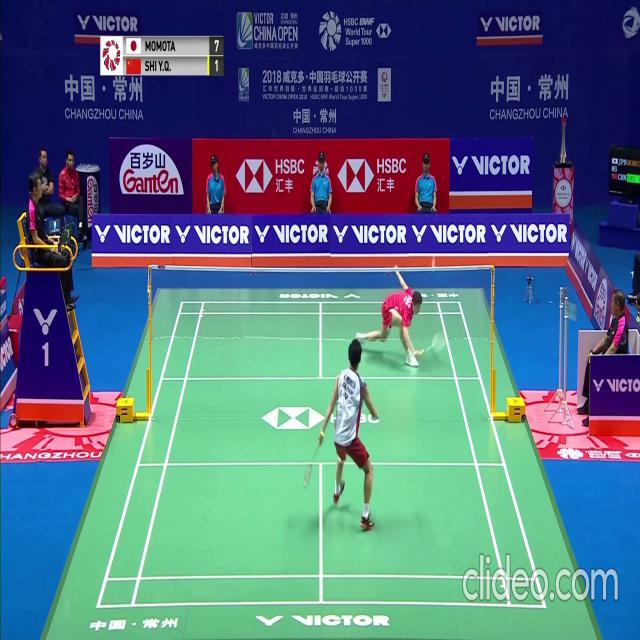Shuttlecock: (431, 256, 436, 264)
